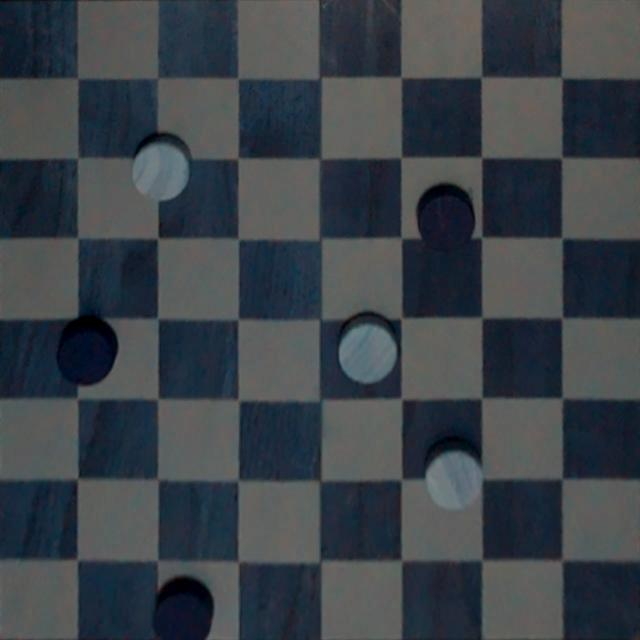BOARD: (0, 0, 640, 640)
black: (414, 176, 482, 256), (55, 311, 119, 391), (147, 573, 223, 640)
white: (330, 303, 404, 387), (128, 129, 194, 207), (425, 438, 487, 512)
